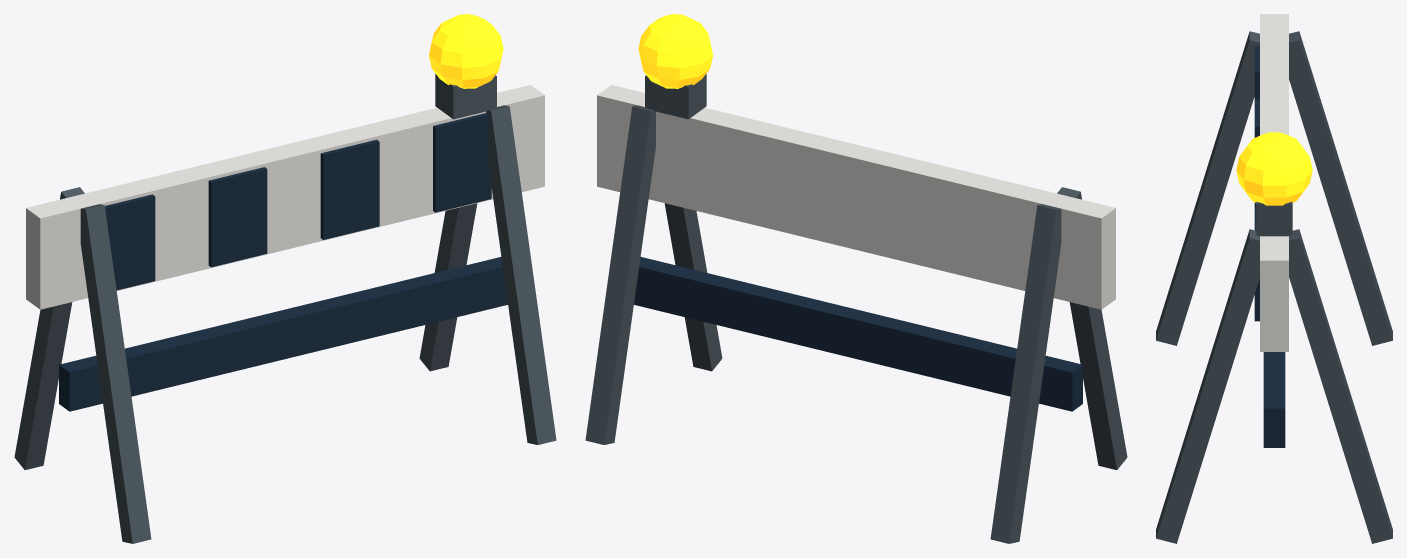
Rendered from police_barricade.glb.
3 renders of one model, left to right at view 1: azimuth 30°, elevation 25°; view 2: azimuth 150°, elevation 25°; view 3: azimuth 270°, elevation 25°, orthographic.
Parts seen in each view (by area): view 1: BarricadeBoard, BarricadeLowerRail, BarricadeLegF, BarricadeLegF.001, BarricadeStripe.001, BarricadeStripe.002, BarricadeLegB, BarricadeStripe.003, BarricadeFlash, BarricadeStripe, BarricadeLegB.001, LampBase; view 2: BarricadeBoard, BarricadeLowerRail, BarricadeLegB, BarricadeLegB.001, BarricadeLegF, BarricadeFlash, BarricadeLegF.001, LampBase; view 3: BarricadeLegB, BarricadeLegB.001, BarricadeLegF.001, BarricadeLegF, BarricadeBoard, BarricadeFlash, BarricadeLowerRail, LampBase, BarricadeStripe.
Boxes of the visible parts, x1,y1,x2,y2 form: BarricadeBoard: (26,85,544,309); BarricadeLowerRail: (59,257,507,411); BarricadeLegF: (80,204,151,543); BarricadeLegF.001: (486,105,556,444); BarricadeStripe.001: (208,167,267,267); BarricadeStripe.002: (320,139,379,239); BarricadeLegB: (14,187,84,469); BarricadeStripe.003: (433,113,491,212); BarricadeFlash: (429,14,503,88); BarricadeStripe: (105,194,155,290); BarricadeLegB.001: (419,203,477,371); LampBase: (435,74,496,119); BarricadeBoard: (597,85,1115,309); BarricadeLowerRail: (634,257,1082,411); BarricadeLegB: (990,204,1061,543); BarricadeLegB.001: (585,105,655,444); BarricadeLegF: (1057,187,1127,469); BarricadeFlash: (638,14,712,88); BarricadeLegF.001: (664,203,722,371); LampBase: (645,74,706,119); BarricadeLegB: (1289,31,1392,345); BarricadeLegB.001: (1289,229,1392,543); BarricadeLegF.001: (1156,229,1259,543); BarricadeLegF: (1156,31,1259,345); BarricadeBoard: (1260,14,1288,351); BarricadeFlash: (1236,132,1312,205); BarricadeLowerRail: (1263,352,1285,447); LampBase: (1256,201,1292,236); BarricadeStripe: (1254,46,1259,99).
Bounding box in the file's own units: 1.62 × 1.2 × 0.6577.
